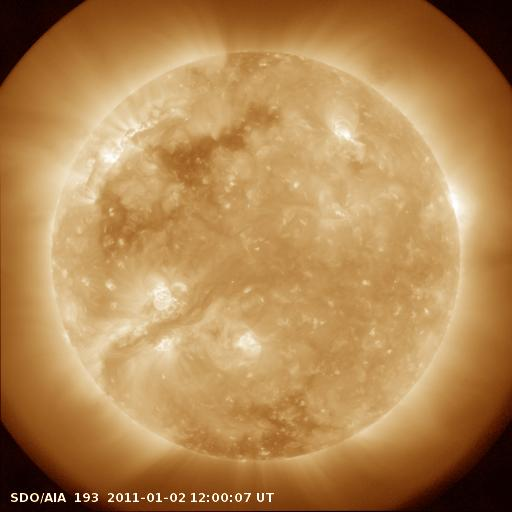coronal_hole: (148, 99, 284, 185), (202, 388, 317, 464)
